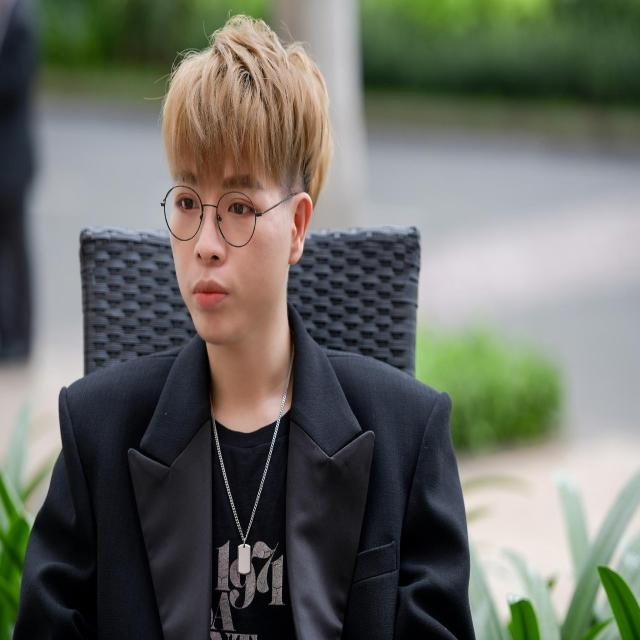Nonhelmet: (152, 11, 334, 348)
